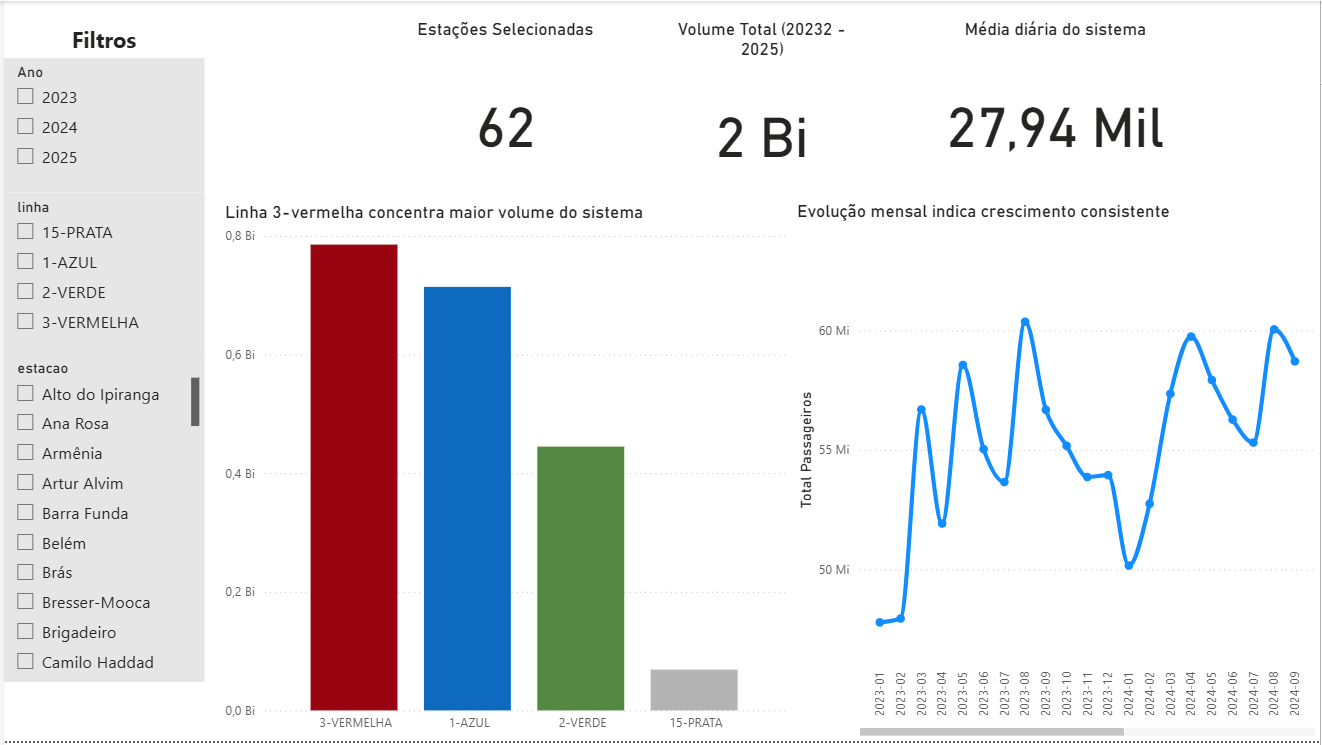

The page's visual inventory and layout, read from the dashboard file:
{"tool":"powerbi","page":{"name":"Página 1","canvas":[1280,720],"ordinal":0},"visuals":[{"type":"card","title":"Volume Total (20232 - 2025)","fields":{"Values":["Medidas.Total Passageiros"]},"box":[640,17.5,194.5,178],"z":0},{"type":"card","title":"Média diária do sistema","fields":{"Values":["Medidas.Media Diaria Sistema"]},"box":[879.3,17.5,286.9,178],"z":1000},{"type":"card","title":"Estações Selecionadas","fields":{"Values":["Medidas.Total Estacoes"]},"box":[392,17.5,191.6,178],"z":2000},{"type":"clusteredColumnChart","title":"Linha 3-vermelha concentra maior volume do sistema","fields":{"Category":["metro_2023_2024_2025_clean.linha"],"Y":["Medidas.Total Passageiros"]},"box":[209.8,196,556.2,524.5],"z":3000},{"type":"lineChart","title":"Evolução mensal indica crescimento consistente","fields":{"Y":["Medidas.Total Passageiros"],"Category":["Calendario.AnoMes"]},"box":[766.4,194.5,513.6,525.2],"z":4000},{"type":"slicer","fields":{"Values":["Calendario.Ano"]},"box":[0,55.4,194.5,131.3],"z":5000},{"type":"slicer","fields":{"Values":["metro_2023_2024_2025_clean.linha"]},"box":[0,186.7,194.5,156.6],"z":6000},{"type":"slicer","fields":{"Values":["metro_2023_2024_2025_clean.estacao"]},"box":[0,343.3,194.5,319],"z":7000},{"type":"textbox","box":[0,17.5,194.5,37.9],"z":7001}]}

Visuals, with their boxes in screenshot pixels (x1, y1, x2, y2), scaled from the page's 1280x720 canvas onto the 1322x745 screenshot:
"Volume Total (20232 - 2025)" card: 661:18:862:202
"Média diária do sistema" card: 908:18:1204:202
"Estações Selecionadas" card: 405:18:603:202
"Linha 3-vermelha concentra maior volume do sistema" clusteredColumnChart: 217:203:791:744
"Evolução mensal indica crescimento consistente" lineChart: 792:201:1321:744
slicer - Calendario.Ano: 0:57:201:193
slicer - metro_2023_2024_2025_clean.linha: 0:193:201:355
slicer - metro_2023_2024_2025_clean.estacao: 0:355:201:685
textbox: 0:18:201:57
